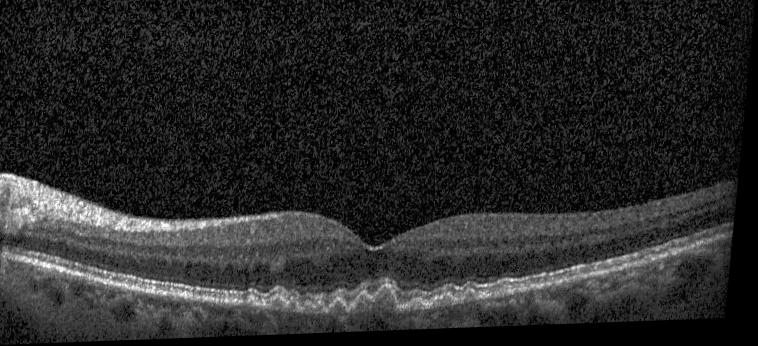retinal_drusen: (358, 290, 404, 316), (310, 304, 331, 317), (503, 287, 519, 303), (273, 300, 293, 311), (440, 299, 458, 311), (469, 294, 483, 309), (335, 304, 352, 316), (251, 296, 268, 307), (414, 304, 432, 314), (293, 303, 303, 314)
